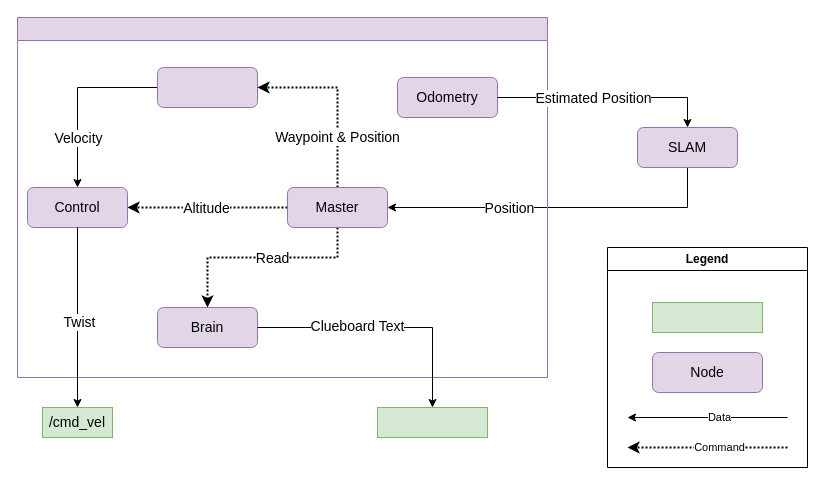
Some shapes in this 825 by 485 pixel diagram are drawn without their labels. The shapes that lost their labels are listed below. From the top down, each one's box as (x1, y1, x2, y2) in pixels, then its label:
(156, 66, 258, 108): Navigation
(16, 16, 548, 378): Robot UI
(652, 302, 762, 332): Topic
(376, 406, 488, 438): /score_tracker
